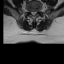CCS_normal: (33, 9, 34, 18)
LFS_stenosis: (36, 8, 39, 14)
LLS_normal: (34, 9, 36, 16)
RFS_severe_stenosis: (29, 8, 31, 14)
RLS_normal: (31, 9, 33, 16)
